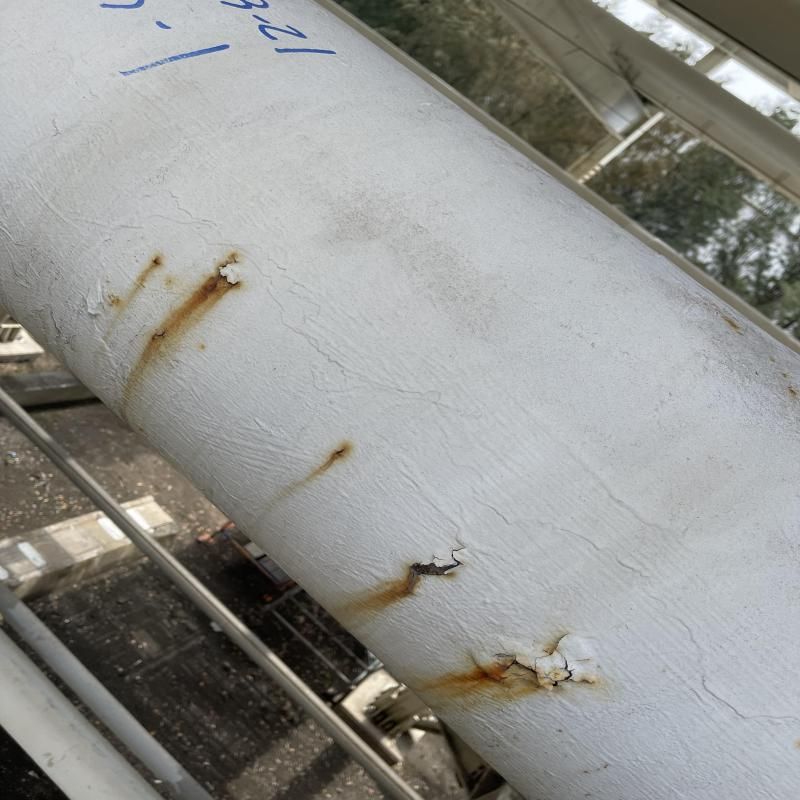corrosion: (144, 238, 251, 350), (440, 652, 586, 699), (365, 558, 419, 621), (318, 430, 362, 491)
